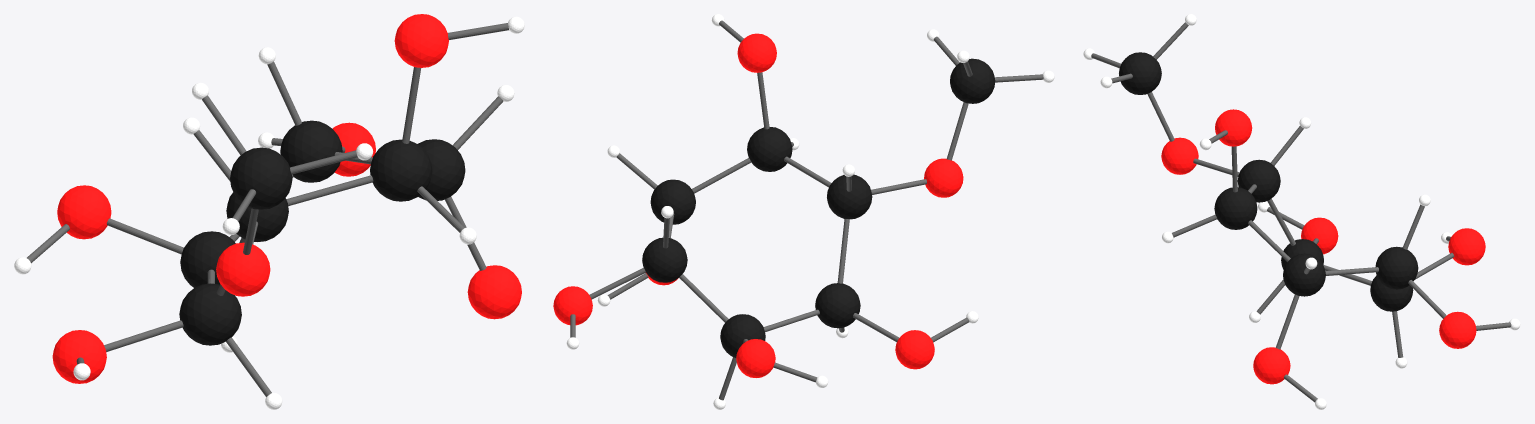
The model's file is molecule.glb.
3 views of the same model, side by side, from view 1: azimuth 30°, elevation 25°; view 2: azimuth 150°, elevation 25°; view 3: azimuth 270°, elevation 25° (orthographic). The views are drawn at different scales.
Parts seen in each view (by area): view 1: geometry_11, geometry_3, geometry_0, geometry_7, geometry_12, geometry_10, geometry_6, geometry_1, geometry_4, geometry_5, geometry_9, geometry_2 (+13 smaller); view 2: geometry_11, geometry_3, geometry_7, geometry_0, geometry_2, geometry_9, geometry_4, geometry_12, geometry_6, geometry_5, geometry_1, geometry_8; view 3: geometry_7, geometry_11, geometry_0, geometry_9, geometry_2, geometry_8, geometry_6, geometry_10, geometry_1, geometry_12, geometry_5, geometry_4 (+1 smaller).
Boxes of the visible parts, bbox=[...] form: geometry_11: bbox=[370, 139, 432, 201]; geometry_3: bbox=[179, 283, 241, 345]; geometry_0: bbox=[230, 147, 292, 209]; geometry_7: bbox=[280, 120, 342, 182]; geometry_12: bbox=[394, 14, 448, 67]; geometry_10: bbox=[467, 265, 521, 319]; geometry_6: bbox=[57, 185, 111, 239]; geometry_1: bbox=[216, 242, 270, 296]; geometry_4: bbox=[52, 330, 106, 383]; geometry_5: bbox=[180, 231, 235, 287]; geometry_9: bbox=[417, 139, 465, 200]; geometry_2: bbox=[226, 192, 288, 241]; geometry_11: bbox=[747, 127, 792, 171]; geometry_3: bbox=[815, 283, 860, 328]; geometry_7: bbox=[642, 237, 687, 282]; geometry_0: bbox=[950, 58, 995, 103]; geometry_2: bbox=[827, 174, 872, 219]; geometry_9: bbox=[650, 179, 695, 224]; geometry_4: bbox=[895, 330, 934, 369]; geometry_12: bbox=[737, 33, 776, 72]; geometry_6: bbox=[736, 339, 775, 377]; geometry_5: bbox=[720, 314, 765, 357]; geometry_1: bbox=[924, 158, 963, 197]; geometry_8: bbox=[553, 286, 592, 325]; geometry_7: bbox=[1375, 246, 1418, 289]; geometry_11: bbox=[1214, 187, 1257, 229]; geometry_0: bbox=[1119, 52, 1161, 94]; geometry_9: bbox=[1283, 253, 1325, 296]; geometry_2: bbox=[1237, 159, 1280, 202]; geometry_8: bbox=[1439, 311, 1476, 348]; geometry_6: bbox=[1448, 228, 1485, 265]; geometry_10: bbox=[1253, 347, 1290, 384]; geometry_1: bbox=[1161, 137, 1198, 174]; geometry_12: bbox=[1215, 109, 1252, 146]; geometry_5: bbox=[1370, 275, 1413, 311]; geometry_4: bbox=[1301, 217, 1338, 254].
Bounding box in the file's own units: 0.2242 × 0.1897 × 0.257.
